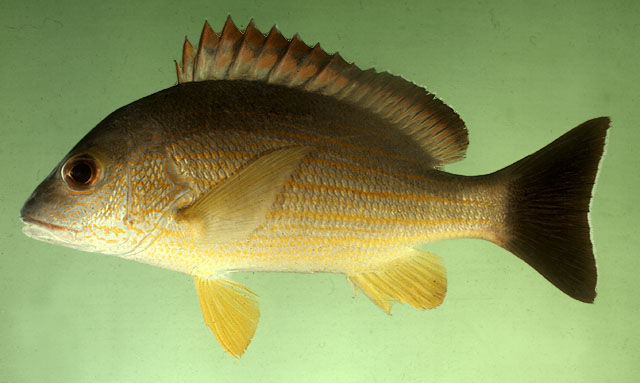fish: (20, 13, 612, 360)
